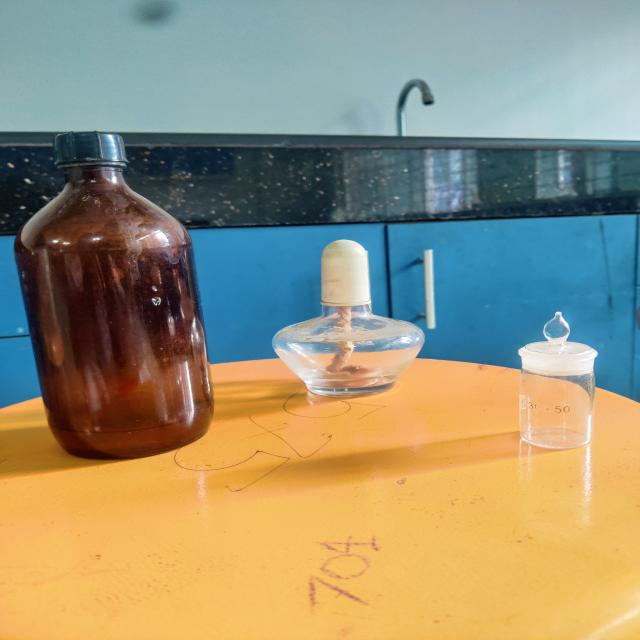Nessler_Reagent_Bottle: (0, 123, 231, 476)
Spirit_Lamp: (248, 215, 437, 423)
Weighing_Bottle: (498, 280, 616, 472)
